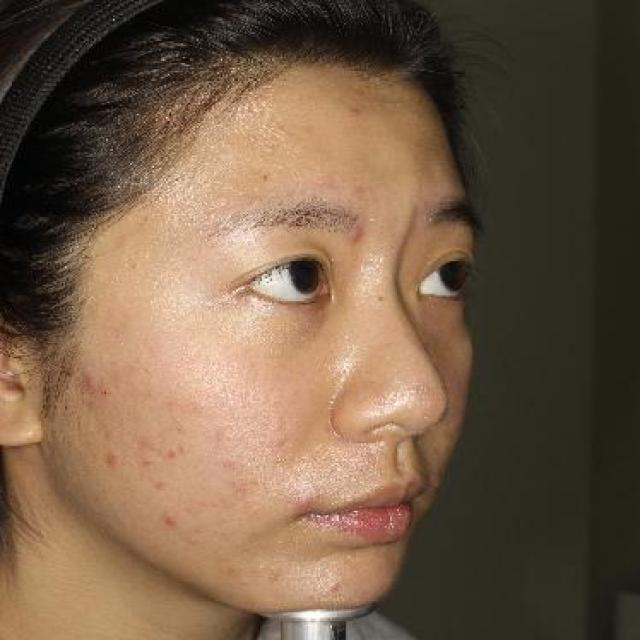dark spot: (87, 443, 127, 475), (210, 449, 244, 483), (149, 503, 186, 532), (123, 451, 159, 478), (332, 100, 370, 120), (132, 428, 161, 452), (159, 442, 192, 463)
papules: (336, 225, 370, 248)
pustules: (74, 368, 106, 397)
